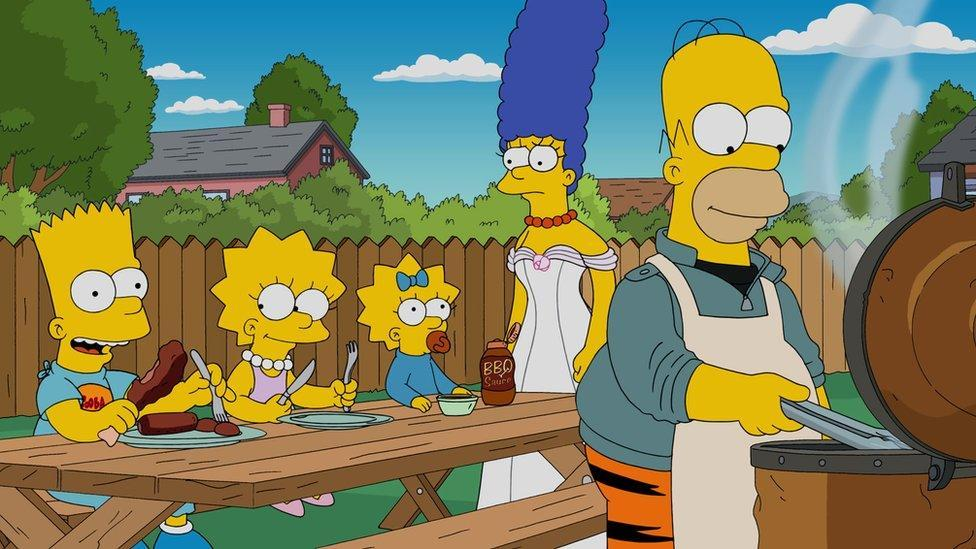Bart: (3, 197, 218, 477)
Homer: (601, 16, 956, 549)
Lisa: (214, 227, 378, 421)
Maggie: (346, 258, 488, 399)
Marge: (473, 4, 631, 397)
